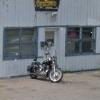Motorcycle: (24, 52, 66, 82)
